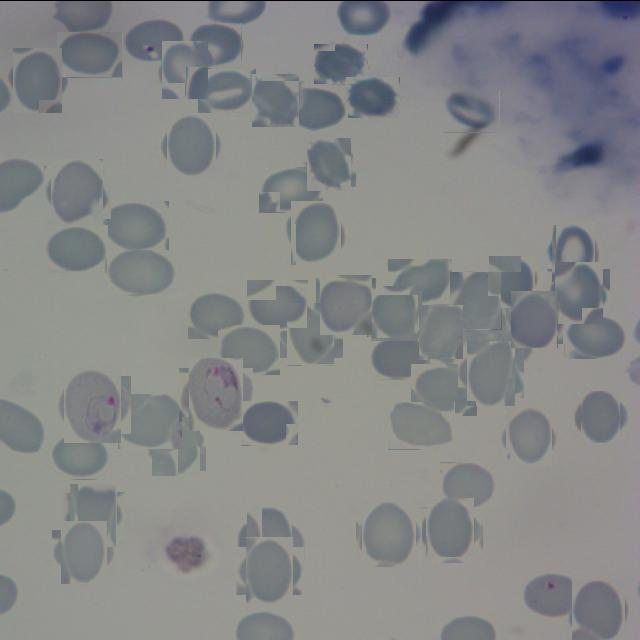leukocyte: (359, 504, 419, 564), (48, 162, 108, 222), (118, 393, 182, 448), (102, 200, 169, 252), (411, 363, 477, 415), (570, 582, 628, 640), (462, 344, 520, 402), (240, 510, 298, 568), (241, 541, 299, 599), (9, 50, 66, 108), (286, 203, 344, 260), (163, 117, 220, 174), (247, 279, 309, 331), (388, 401, 455, 449), (421, 502, 478, 558), (318, 275, 374, 332), (107, 249, 177, 294), (550, 264, 606, 320), (56, 524, 112, 580), (282, 306, 338, 362), (218, 324, 280, 374), (44, 224, 108, 272), (57, 31, 123, 77), (66, 487, 121, 542), (450, 271, 502, 329), (259, 166, 324, 212), (564, 311, 627, 358), (388, 256, 452, 302), (149, 419, 203, 473), (186, 291, 246, 338), (502, 410, 556, 462), (370, 332, 430, 378), (368, 286, 421, 338), (440, 461, 497, 509), (548, 225, 600, 277), (159, 42, 211, 94), (508, 292, 560, 344), (182, 22, 242, 67), (241, 400, 299, 445), (290, 86, 348, 131), (52, 436, 112, 479), (198, 68, 256, 112), (250, 74, 301, 124), (487, 256, 537, 305), (304, 140, 354, 188), (419, 304, 463, 358), (444, 90, 500, 132), (346, 76, 400, 118), (314, 43, 368, 84), (578, 393, 624, 439)
schizont: (60, 370, 126, 438), (184, 362, 248, 426)
